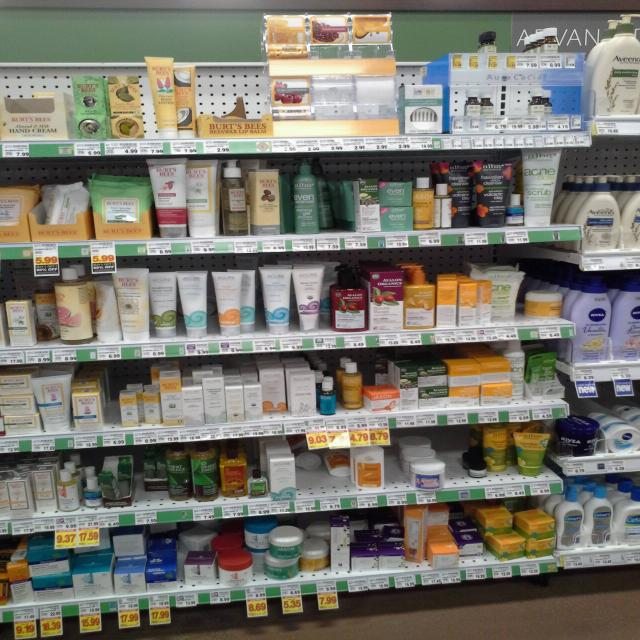empty: (195, 49, 268, 136), (1, 58, 76, 134), (381, 432, 406, 487), (442, 427, 468, 478)
